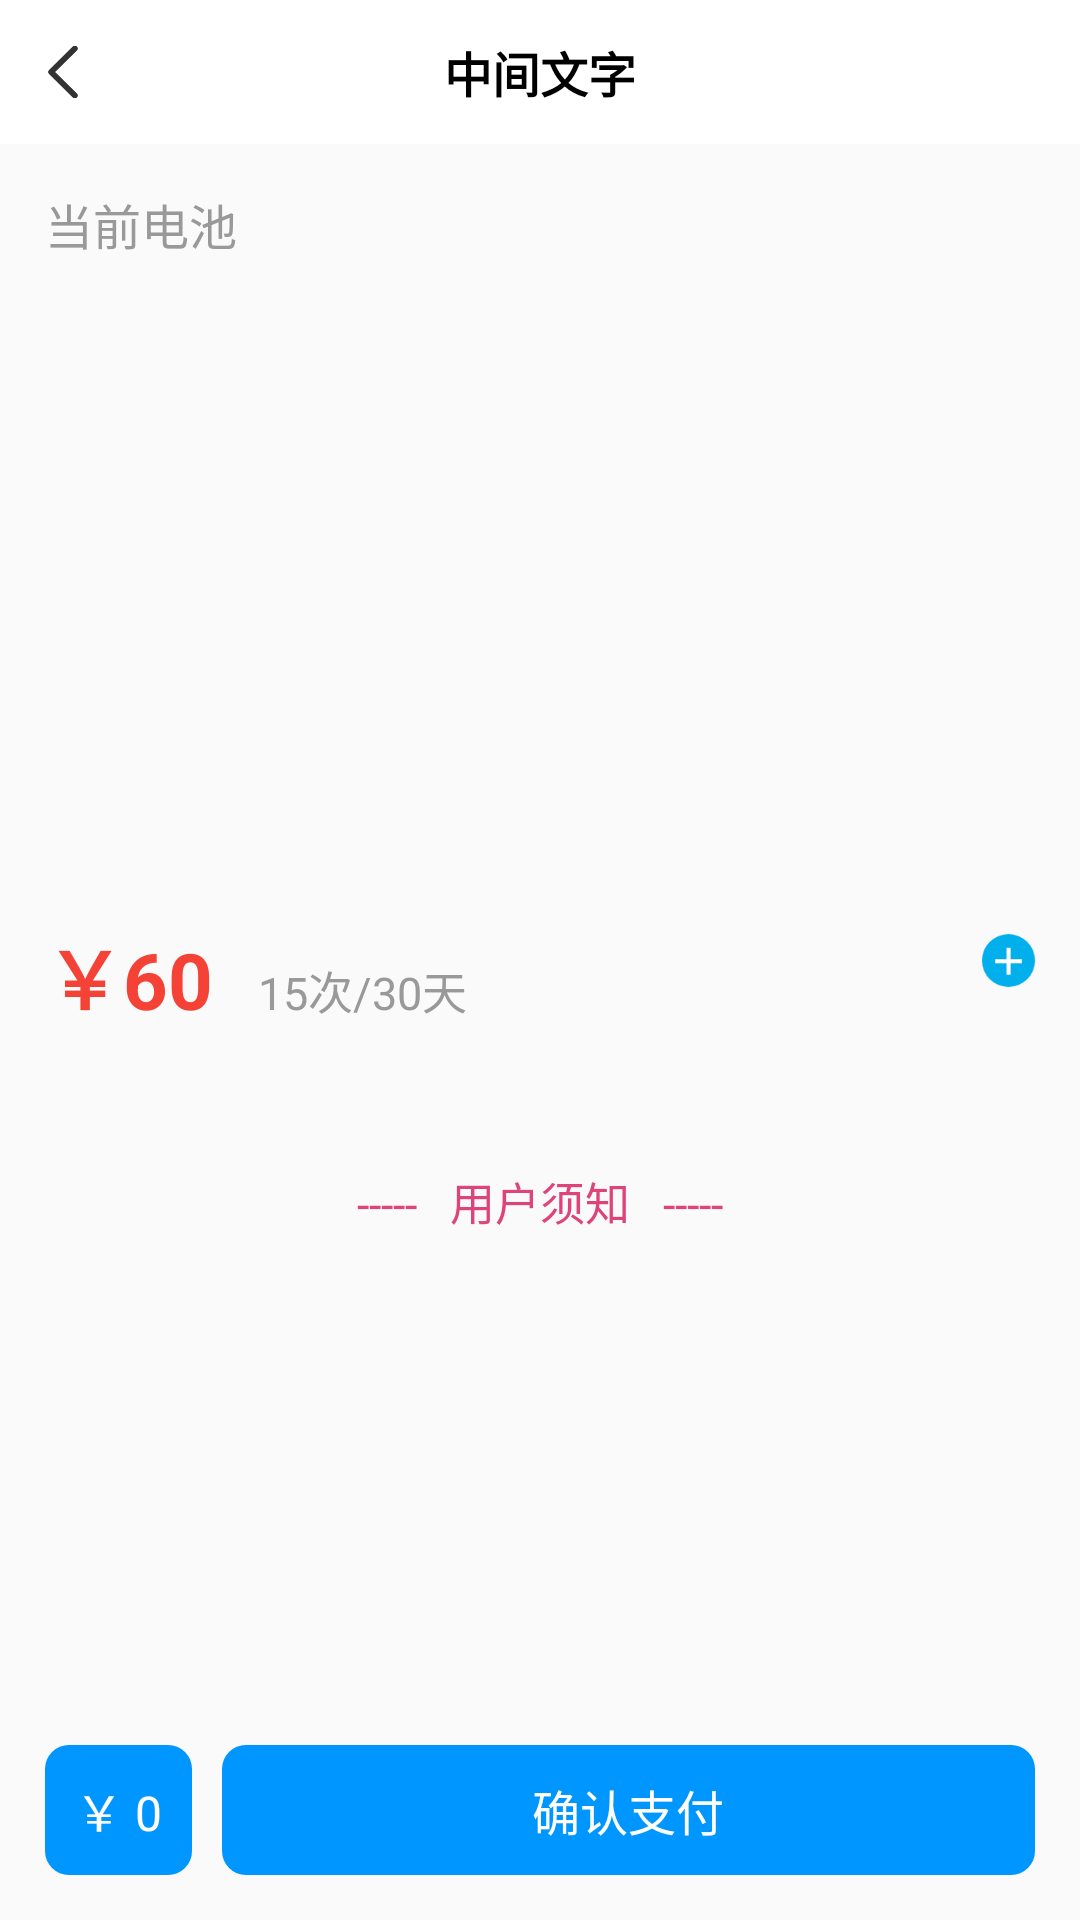

Icon bounding boxes for this 1080*1920 phone screenshot, format (x1, y1, x2, y2):
add package: (982, 934, 1035, 987)
